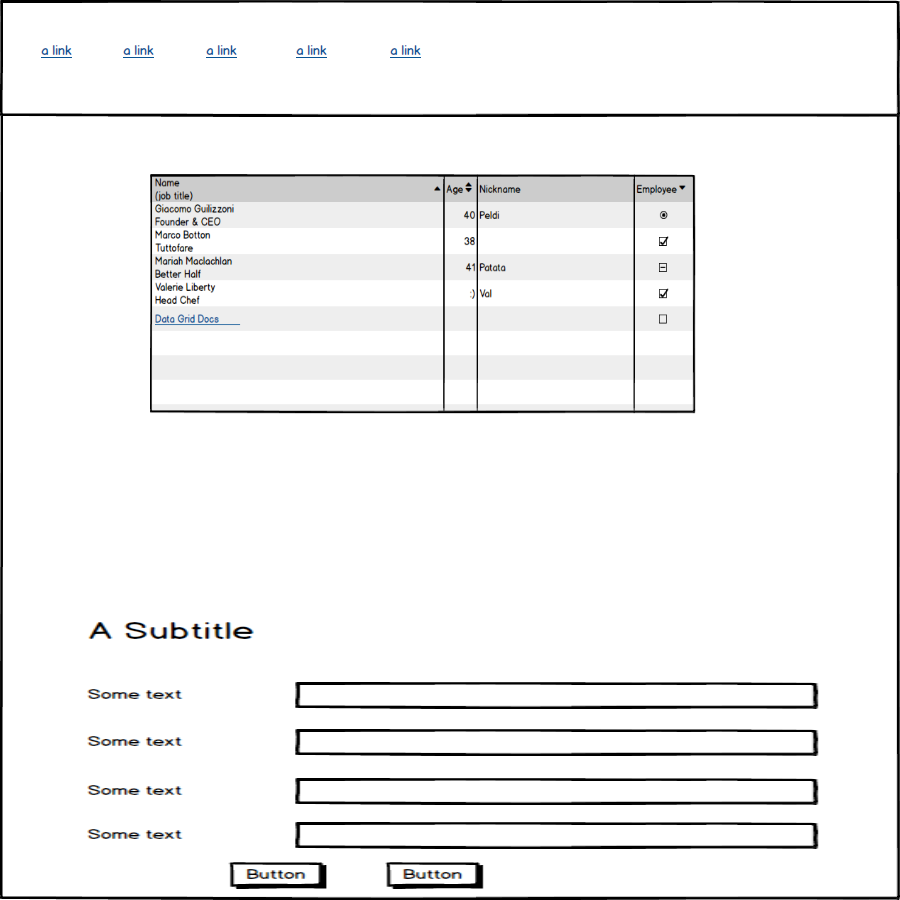button: (228, 862, 331, 896), (383, 859, 487, 892)
h1: (83, 603, 272, 651)
input: (290, 814, 824, 859), (293, 770, 827, 811), (293, 722, 828, 762), (294, 678, 820, 715)
label: (81, 780, 192, 804), (82, 730, 192, 754), (82, 821, 189, 845), (82, 686, 196, 707)
navlink: (116, 38, 163, 73), (383, 38, 433, 70), (28, 38, 79, 62), (198, 33, 238, 60), (286, 43, 338, 60)
table: (142, 166, 702, 419)
